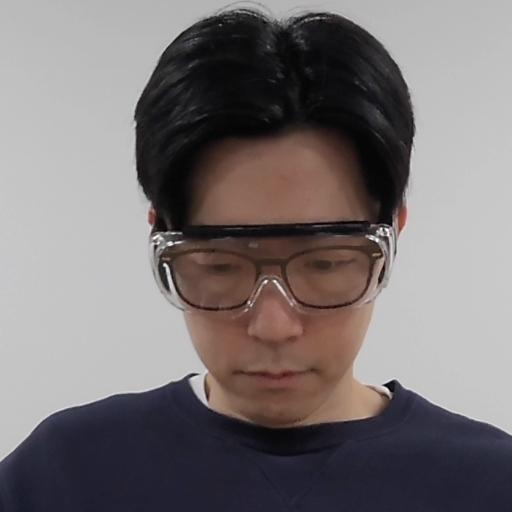glasses: (120, 15, 421, 412)
